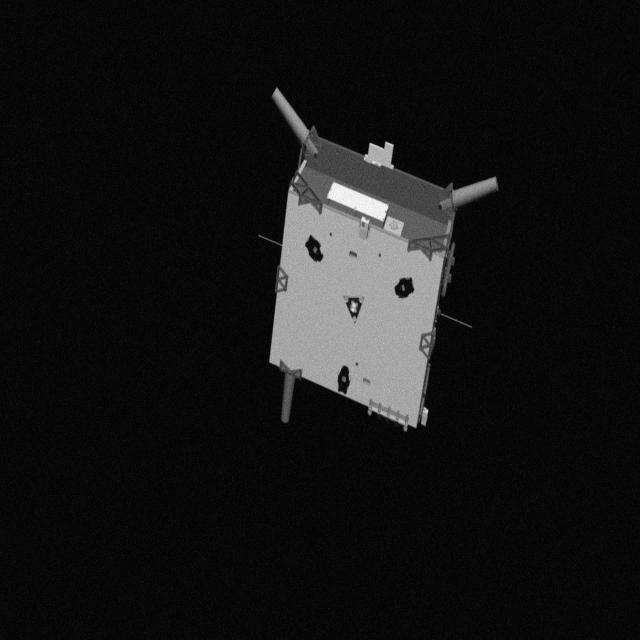satellite: (254, 84, 508, 438)
